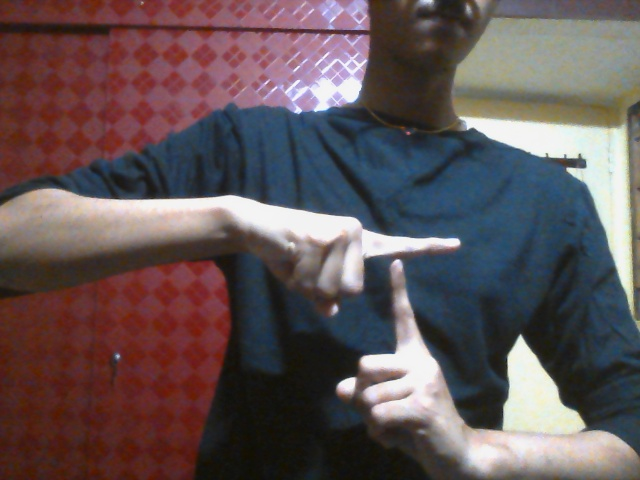T: (244, 198, 462, 472)
